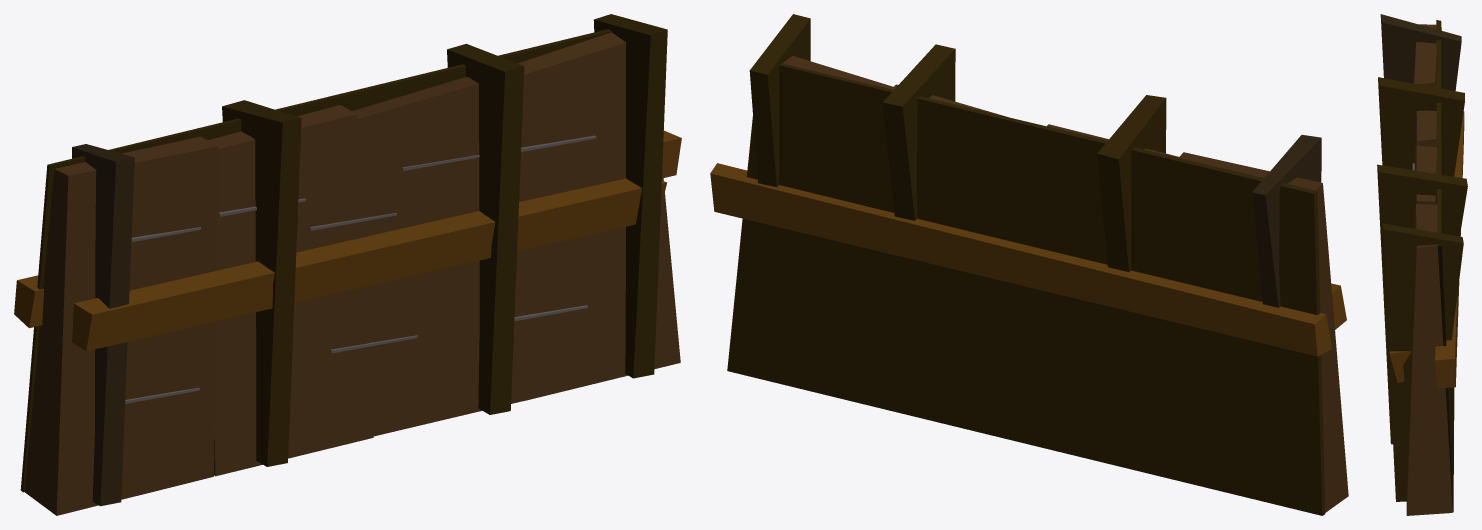
Rendered from WoodWallNew.fbx.
3 renders of one model, left to right at view 1: azimuth 30°, elevation 25°; view 2: azimuth 150°, elevation 25°; view 3: azimuth 270°, elevation 25°, orthographic. The views are drawn at different scales.
Parts seen in each view (by area): view 1: Cube.005, Cube.003, Cube.001, Cube.025, Cube.020, Cube.024, Cube.022, Cube.019; view 2: Cube.020, Cube.025, Cube.024, Cube.022, Cube.003, Cube.019, Cube.005; view 3: Cube.005, Cube.020, Cube.022, Cube.024, Cube.019, Cube.025, Cube.003, Cube.001.
Part boxes in pixels (bbox=[...]): Cube.005: bbox=[352, 32, 680, 436]; Cube.003: bbox=[24, 136, 218, 515]; Cube.001: bbox=[208, 105, 373, 476]; Cube.025: bbox=[14, 130, 681, 351]; Cube.020: bbox=[20, 14, 667, 492]; Cube.024: bbox=[447, 43, 524, 414]; Cube.022: bbox=[222, 100, 301, 466]; Cube.019: bbox=[72, 144, 134, 506]; Cube.020: bbox=[727, 14, 1325, 515]; Cube.025: bbox=[710, 163, 1346, 356]; Cube.024: bbox=[882, 44, 955, 220]; Cube.022: bbox=[1097, 95, 1166, 271]; Cube.003: bbox=[1179, 152, 1348, 512]; Cube.019: bbox=[1252, 135, 1321, 307]; Cube.005: bbox=[782, 56, 1006, 116]; Cube.005: bbox=[1406, 145, 1452, 515]; Cube.020: bbox=[1382, 20, 1463, 512]; Cube.022: bbox=[1378, 77, 1464, 176]; Cube.024: bbox=[1377, 164, 1467, 444]; Cube.019: bbox=[1380, 14, 1461, 91]; Cube.025: bbox=[1389, 111, 1464, 388]; Cube.003: bbox=[1414, 24, 1436, 87]; Cube.001: bbox=[1414, 86, 1436, 170].
Size of the model in its own units: 821 by 429 by 126.
